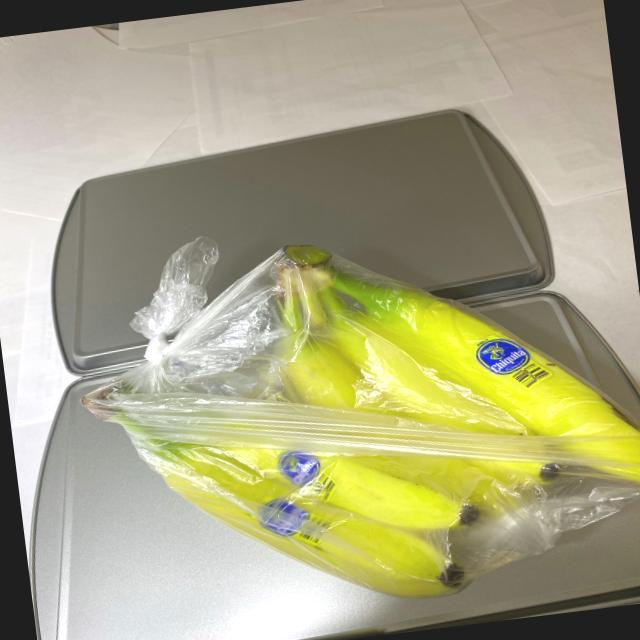banana: (62, 198, 640, 634)
